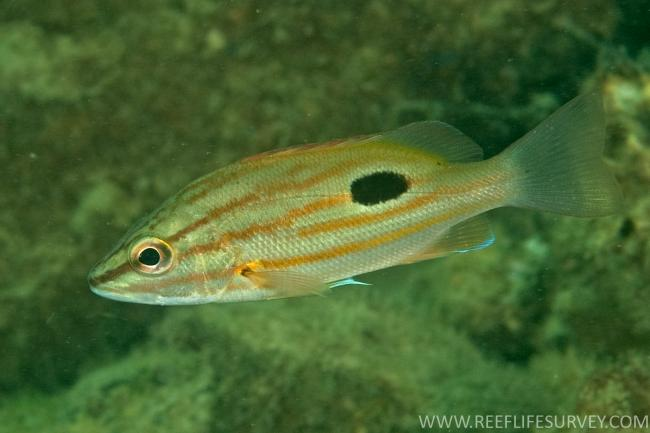fish: (86, 89, 627, 307)
